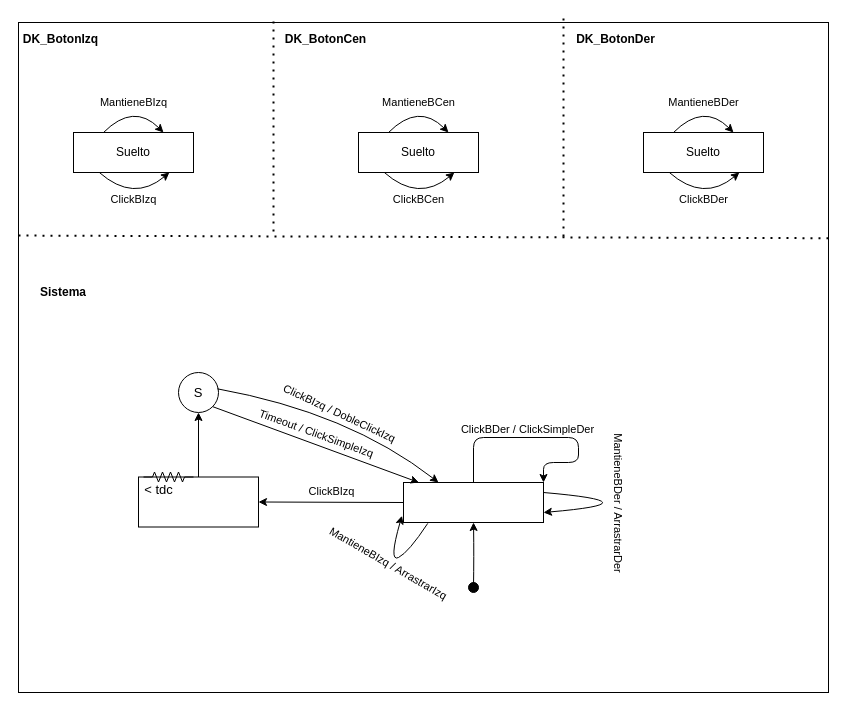
This 852x710 diagram has some shape labels left out. The shapes that lost their labels are listed below. From the top down, each one's box as (x1, y1, x2, y2) in pixels, then its label:
(138, 476, 258, 527): BotonIzq
(402, 482, 544, 522): Vacío
